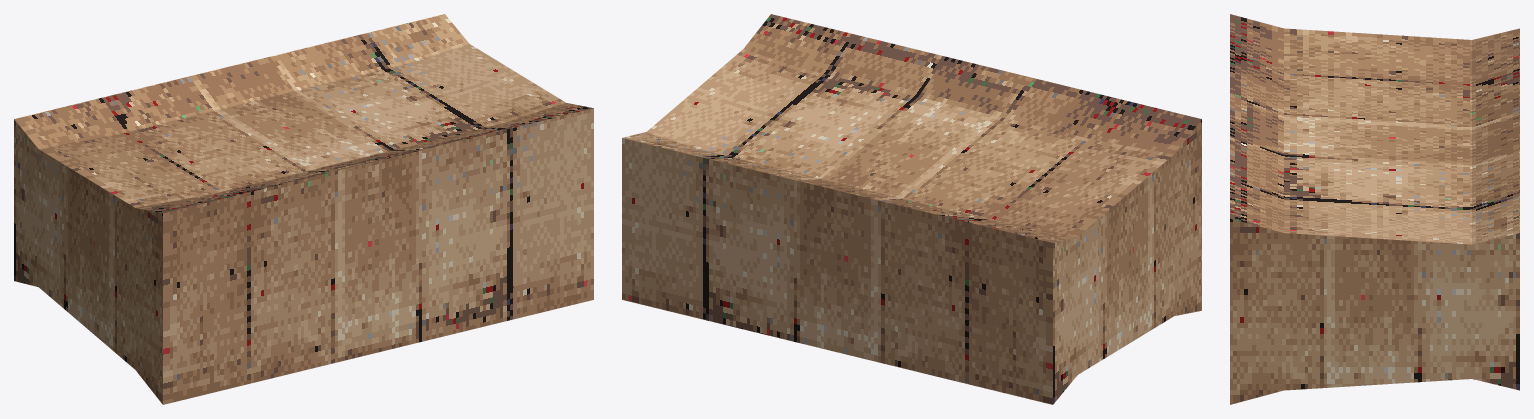
The model's file is Road_Blocks_-_Brown.glb.
The picture shows the model from 3 angles, left to right: view 1: azimuth 30°, elevation 25°; view 2: azimuth 150°, elevation 25°; view 3: azimuth 270°, elevation 25°; orthographic projection. The views are drawn at different scales.
Parts seen in each view (by area): view 1: Road Blocks - Brown; view 2: Road Blocks - Brown; view 3: Road Blocks - Brown.
Part boxes in pixels (bbox=[...]): Road Blocks - Brown: bbox=[14, 14, 593, 404]; Road Blocks - Brown: bbox=[622, 14, 1201, 404]; Road Blocks - Brown: bbox=[1230, 14, 1519, 404].
Size of the model in its own units: 0.462 by 0.1963 by 0.2766.
Materials: 1 (1 with a texture image).
